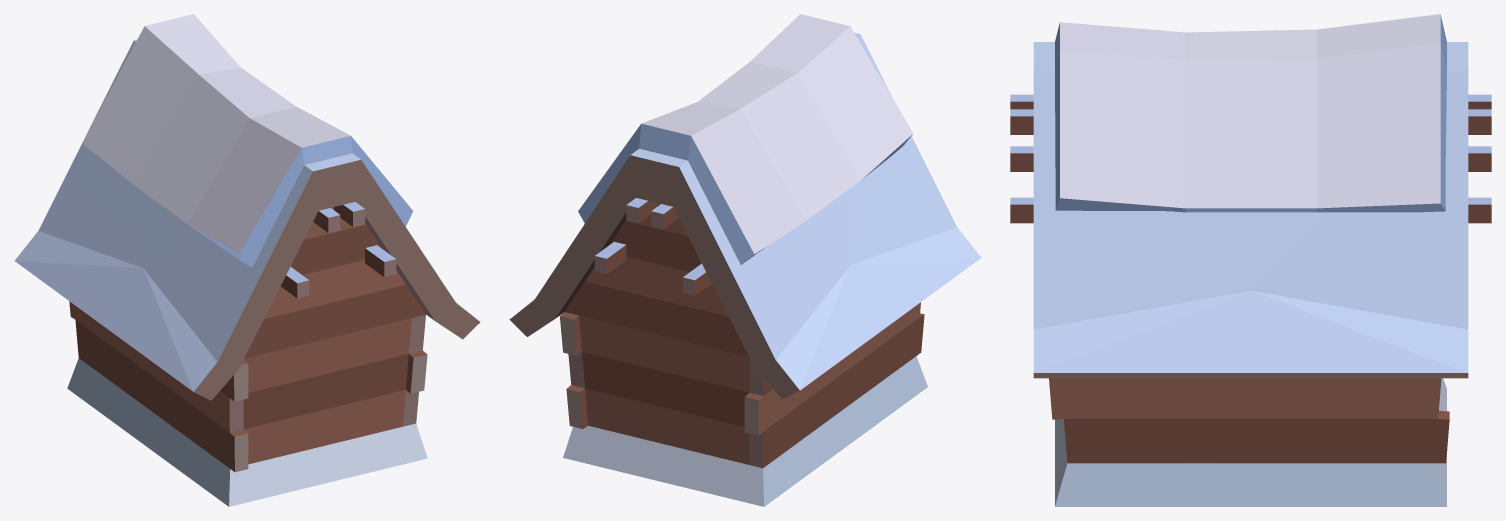
Rendered from snow_house.glb.
3 views of the same model, side by side, from view 1: azimuth 30°, elevation 25°; view 2: azimuth 150°, elevation 25°; view 3: azimuth 270°, elevation 25° (orthographic). The views are drawn at different scales.
Visible parts, largest first — view 1: TB_Bd_SWHouse; view 2: TB_Bd_SWHouse; view 3: TB_Bd_SWHouse.
Part boxes in pixels (x1=…): TB_Bd_SWHouse: x1=14, y1=14, x2=480, y2=506; TB_Bd_SWHouse: x1=509, y1=14, x2=981, y2=506; TB_Bd_SWHouse: x1=1010, y1=14, x2=1491, y2=506.
Bounding box in the file's own units: 4.68 × 5.4 × 5.61.
1 material, 1 textured.
